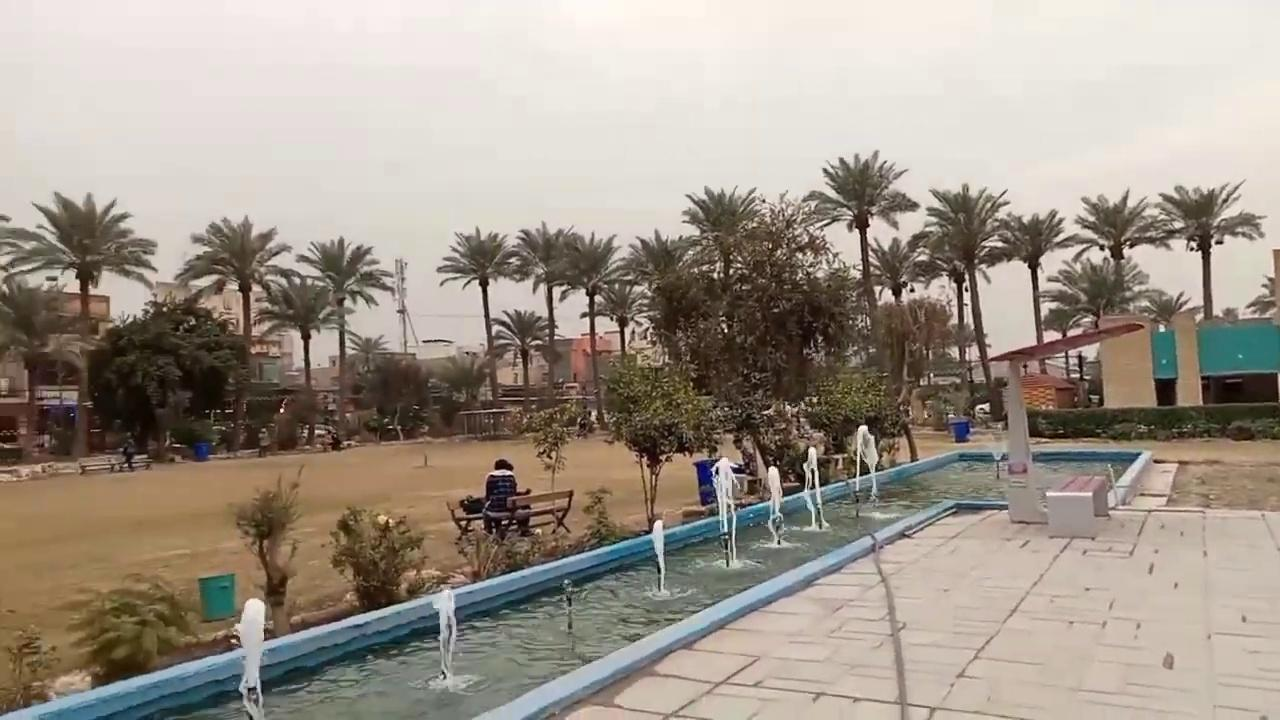fountain: (3, 366, 1157, 717)
person: (482, 458, 532, 540), (118, 437, 136, 471), (576, 410, 591, 439), (257, 427, 270, 457)
tree: (676, 186, 852, 489), (2, 189, 158, 456), (173, 213, 292, 451), (89, 287, 244, 460), (802, 148, 919, 363), (908, 182, 1011, 416), (731, 189, 838, 405), (597, 353, 724, 532), (294, 235, 394, 437), (679, 183, 765, 400), (435, 225, 523, 432), (543, 230, 627, 429), (252, 267, 345, 446), (1151, 178, 1266, 319), (63, 571, 196, 686), (985, 208, 1072, 371), (1060, 186, 1168, 316), (230, 462, 307, 637), (509, 220, 579, 405), (324, 503, 428, 611), (798, 370, 906, 470), (863, 234, 927, 398), (621, 228, 698, 364), (680, 183, 763, 294), (1041, 255, 1146, 330), (489, 306, 553, 413), (519, 398, 584, 494), (362, 354, 431, 440), (582, 280, 651, 360), (0, 622, 58, 710), (904, 296, 953, 386), (864, 234, 924, 304), (437, 349, 491, 409), (1138, 287, 1190, 330), (343, 330, 389, 375), (1243, 271, 1278, 319)
